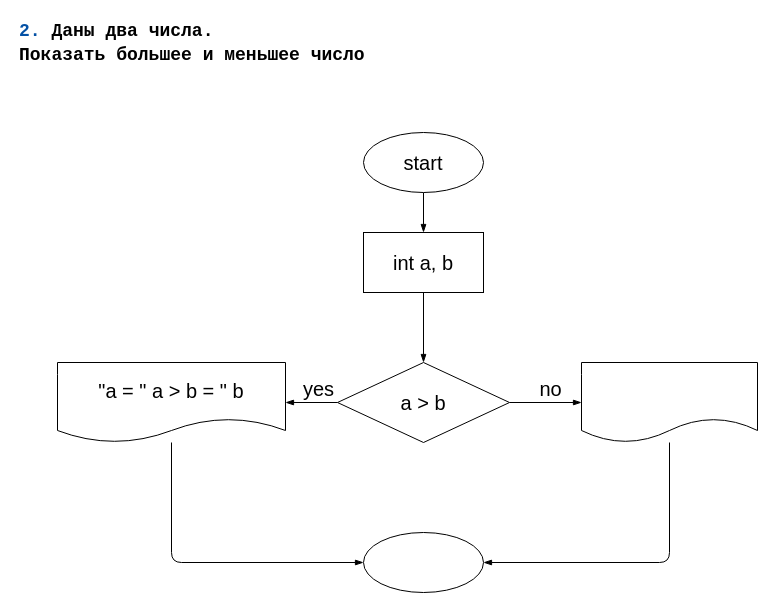
The diagram is 775 pixels wide and 610 high, and some of its shapes have lost their labels. Here are the shapes that lost their labels. From the top down, the centre of each, then its label:
pixel 669 402: "a = " a < b = " b
pixel 423 562: end
